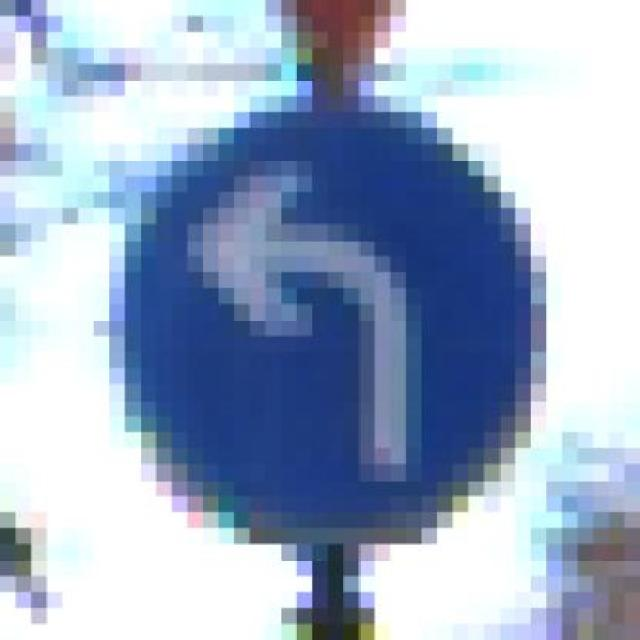Turn left ahead: (93, 79, 562, 576)
